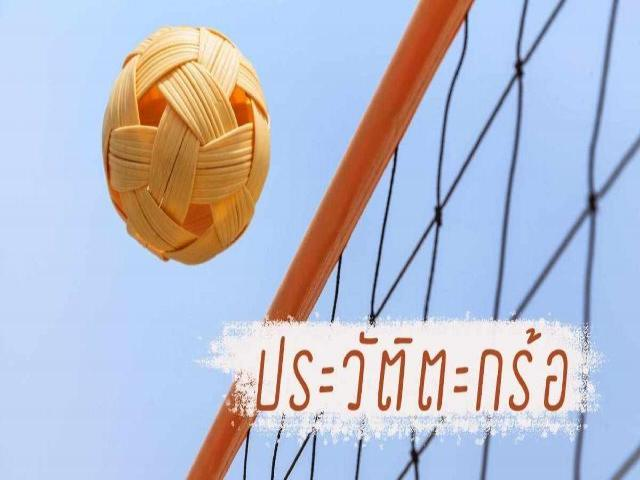round ball: (102, 26, 269, 264)
